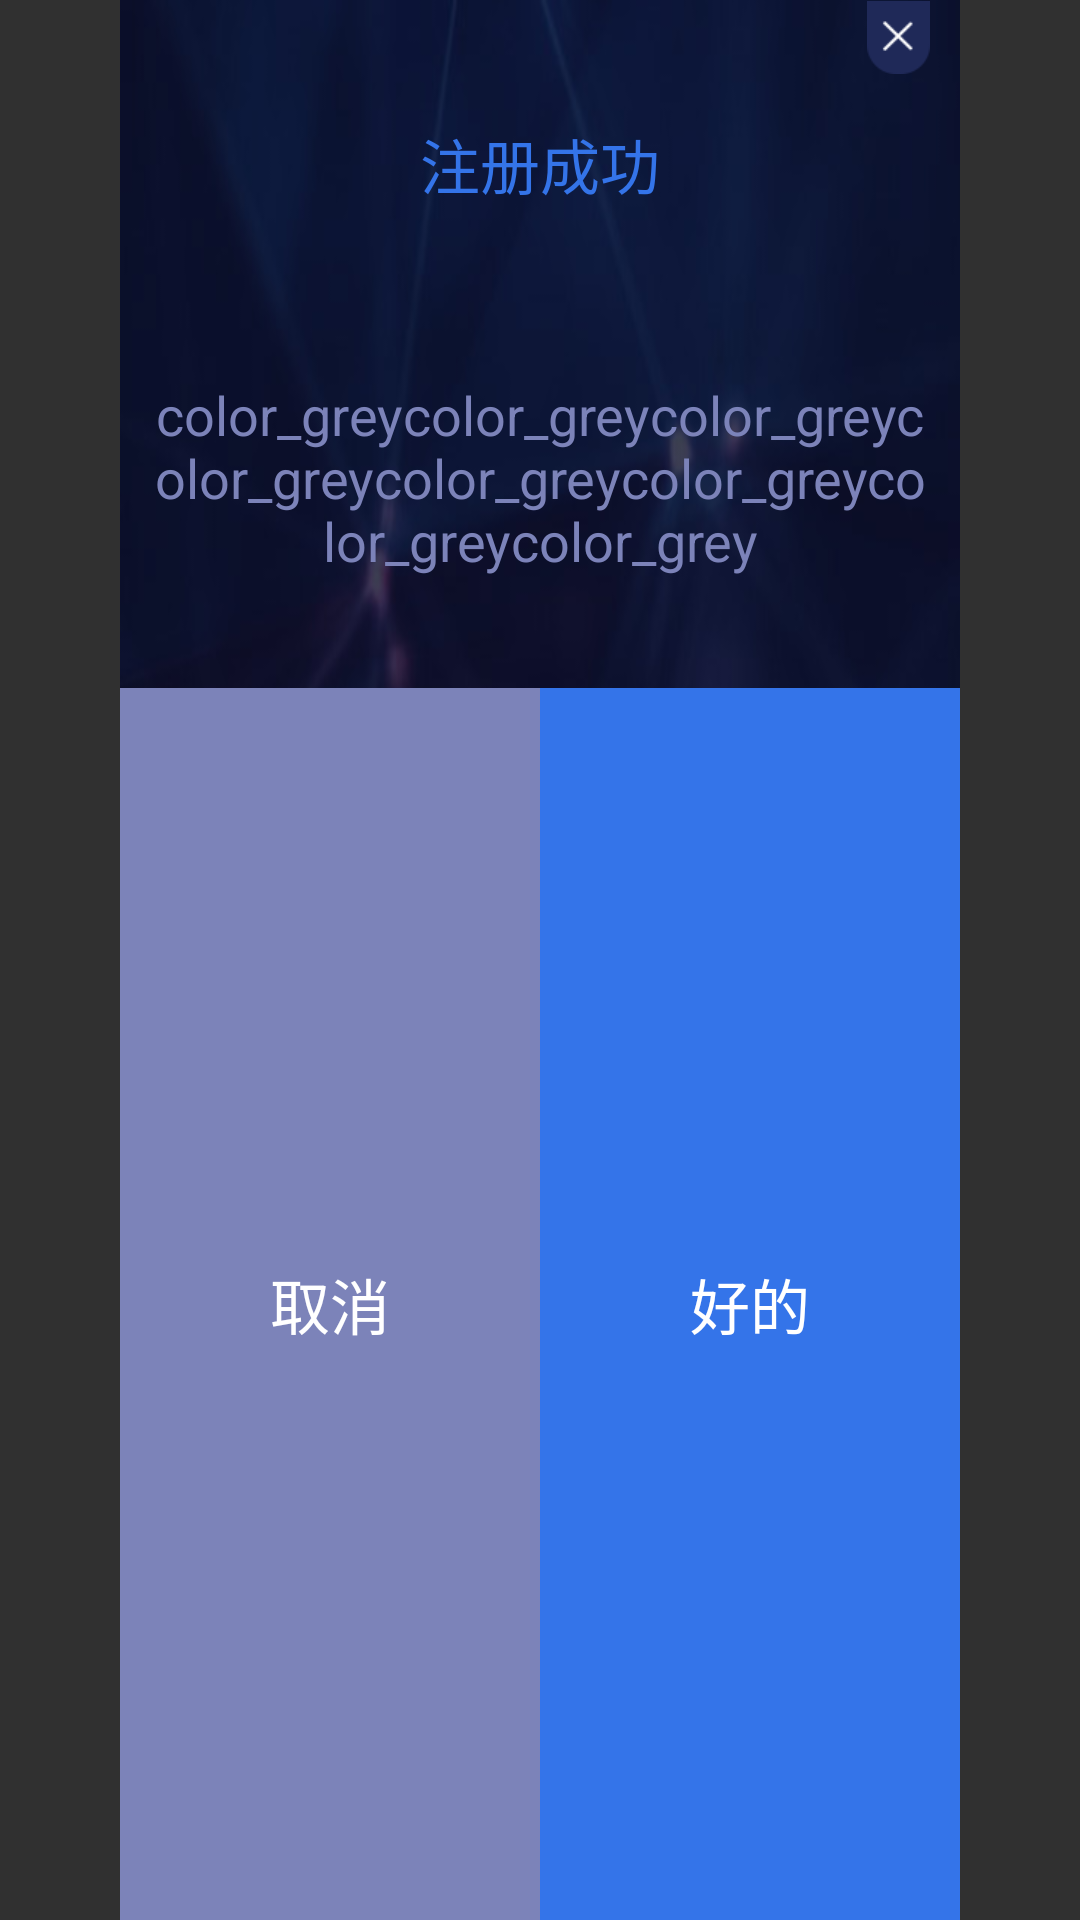

Icon click points for this 1080x1920 phone screenshot, format [x,y]:
tanchuang close: [898,37]
